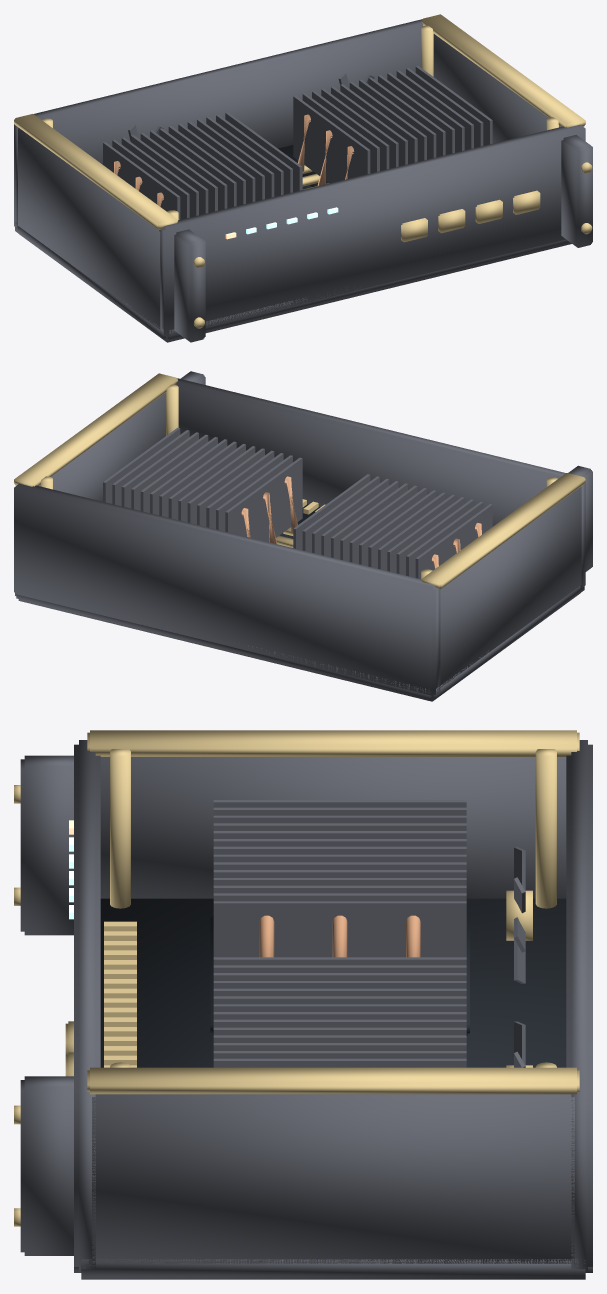
File: artifact-eval-prism.glb
3 views of the same model, one above another, from view 1: azimuth 30°, elevation 25°; view 2: azimuth 150°, elevation 25°; view 3: azimuth 270°, elevation 25° (orthographic). The views are drawn at different scales.
Visible parts, largest first — view 1: Chassis_FrontRail, Chassis_BackRail, Heatsink_Fins_1, Side_Rail_-1.2, Heatsink_Fins_0, Side_Rail_+1.2, Chassis_Base, Top_Trim_-1.2, Top_Trim_+1.2, Rack_Ear_-1.1, Rack_Ear_+1.1, Standoff_1.1_0.6 (+4 smaller); view 2: Chassis_BackRail, Chassis_FrontRail, Heatsink_Fins_1, Side_Rail_-1.2, Heatsink_Fins_0, Side_Rail_+1.2, Chassis_Base, Top_Trim_-1.2, Top_Trim_+1.2, Rack_Ear_-1.1, Standoff_1.1_-0.6; view 3: Side_Rail_+1.2, Heatsink_Fins_0, Side_Rail_-1.2, Server_PCB, Heatsink_Fins_1, Top_Trim_+1.2, Top_Trim_-1.2, Chassis_FrontRail, Chassis_BackRail, Chassis_Base, Rack_Ear_+1.1, Rack_Ear_-1.1 (+5 smaller).
Boxes of the visible parts, left/top/right/bottom form: Chassis_FrontRail: left=159, top=124, right=585, bottom=337; Chassis_BackRail: left=14, top=19, right=423, bottom=229; Heatsink_Fins_1: left=293, top=66, right=492, bottom=183; Side_Rail_-1.2: left=18, top=128, right=160, bottom=329; Heatsink_Fins_0: left=103, top=112, right=302, bottom=219; Side_Rail_+1.2: left=433, top=34, right=560, bottom=143; Chassis_Base: left=15, top=222, right=571, bottom=342; Top_Trim_-1.2: left=14, top=114, right=177, bottom=229; Top_Trim_+1.2: left=421, top=14, right=585, bottom=127; Rack_Ear_-1.1: left=174, top=229, right=205, bottom=342; Rack_Ear_+1.1: left=561, top=135, right=592, bottom=247; Standoff_1.1_0.6: left=421, top=25, right=433, bottom=76; Chassis_BackRail: left=14, top=483, right=440, bottom=696; Chassis_FrontRail: left=176, top=378, right=585, bottom=588; Heatsink_Fins_1: left=103, top=427, right=302, bottom=542; Side_Rail_-1.2: left=439, top=487, right=581, bottom=688; Heatsink_Fins_0: left=293, top=474, right=492, bottom=579; Side_Rail_+1.2: left=39, top=393, right=165, bottom=501; Chassis_Base: left=15, top=586, right=584, bottom=701; Top_Trim_-1.2: left=421, top=473, right=585, bottom=589; Top_Trim_+1.2: left=14, top=373, right=177, bottom=486; Rack_Ear_-1.1: left=568, top=465, right=592, bottom=571; Standoff_1.1_-0.6: left=166, top=384, right=178, bottom=435; Side_Rail_+1.2: left=92, top=1094, right=574, bottom=1263; Heatsink_Fins_0: left=213, top=800, right=466, bottom=957; Side_Rail_-1.2: left=100, top=757, right=566, bottom=898; Server_PCB: left=100, top=898, right=566, bottom=1067; Heatsink_Fins_1: left=213, top=957, right=466, bottom=1067; Top_Trim_+1.2: left=87, top=1067, right=579, bottom=1094; Top_Trim_-1.2: left=87, top=730, right=579, bottom=756; Chassis_FrontRail: left=74, top=740, right=100, bottom=1271; Chassis_BackRail: left=566, top=740, right=592, bottom=1271; Chassis_Base: left=74, top=1259, right=592, bottom=1279; Rack_Ear_+1.1: left=20, top=1076, right=73, bottom=1255; Rack_Ear_-1.1: left=20, top=755, right=73, bottom=935.
Bounding box in the file's own units: 2.52 × 0.67 × 1.74.
